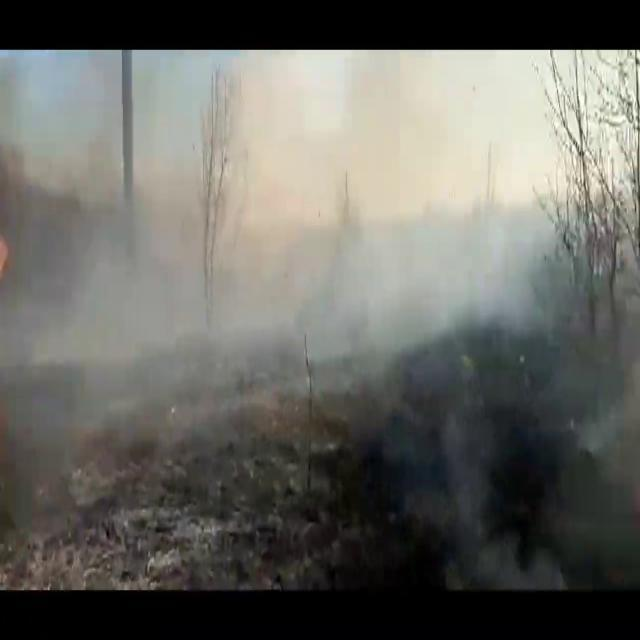Smoke: (1, 51, 636, 424)
